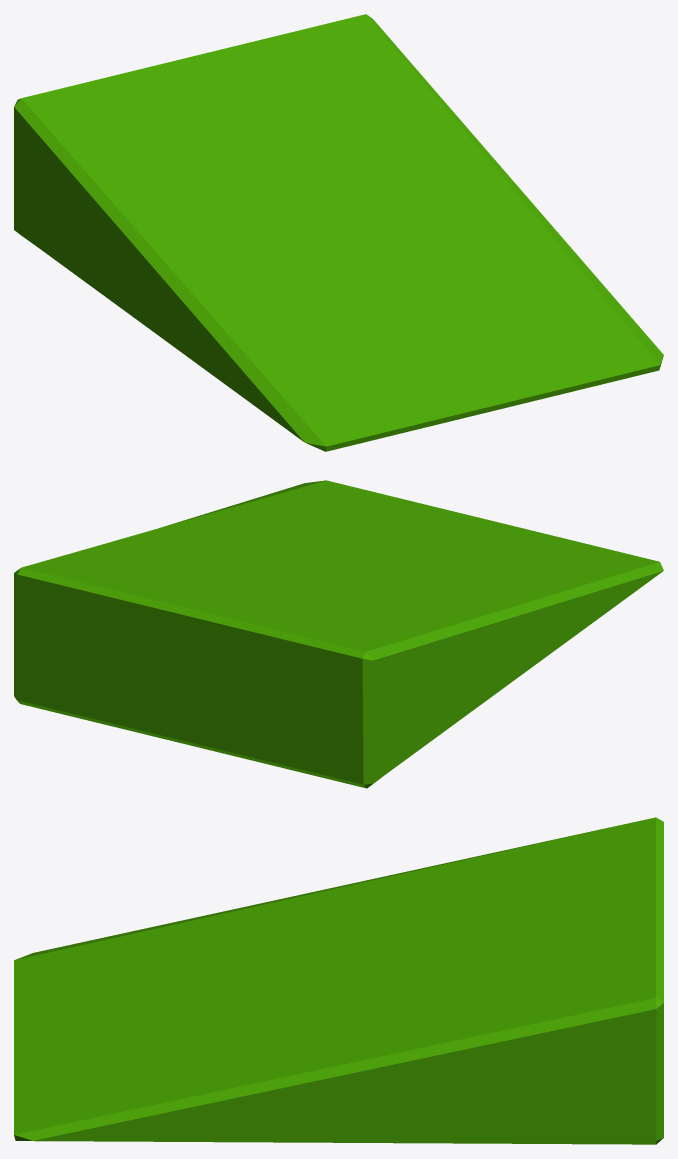
File: Cheese.fbx
3 renders of one model, top to bottom at view 1: azimuth 30°, elevation 25°; view 2: azimuth 150°, elevation 25°; view 3: azimuth 270°, elevation 25°, orthographic. The views are drawn at different scales.
Visible parts, largest first — view 1: Cheese; view 2: Cheese; view 3: Cheese.
Boxes of the visible parts, x1,y1,x2,y2 form: Cheese: (14,14,663,451); Cheese: (14,480,663,788); Cheese: (14,817,663,1144).
Bounding box in the file's own units: 62.8 × 22.8 × 91.81.
